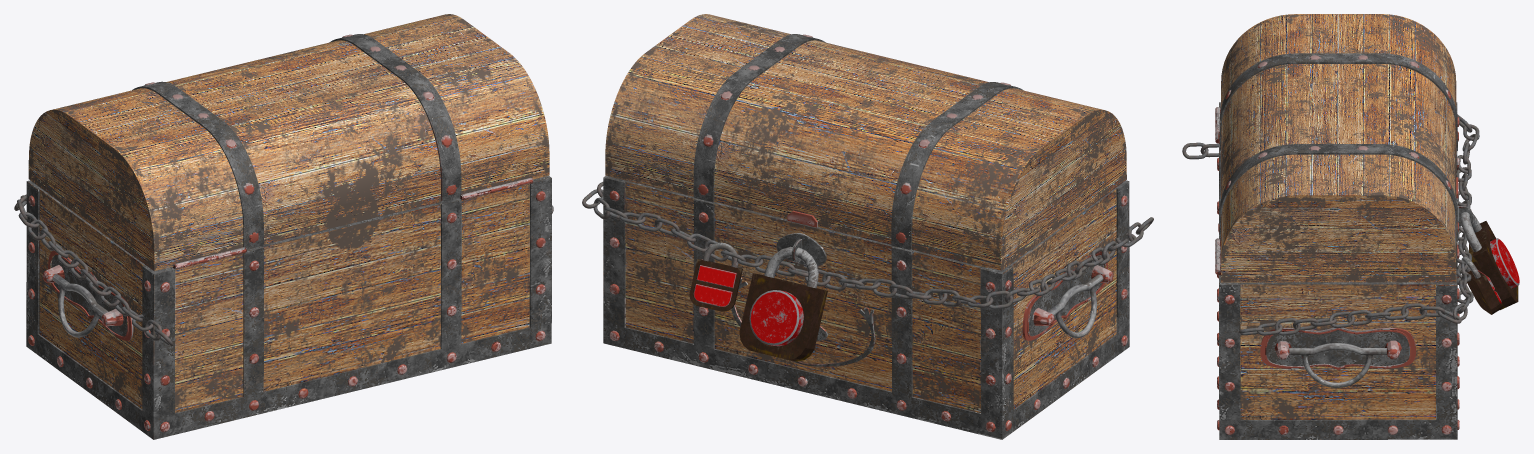
The model's file is chest.gltf.
3 renders of one model, left to right at view 1: azimuth 30°, elevation 25°; view 2: azimuth 150°, elevation 25°; view 3: azimuth 270°, elevation 25°, orthographic. The views are drawn at different scales.
Parts seen in each view (by area): view 1: down, up, chaine; view 2: up, down, chaine, lock, button, lockSecond, buttonDown, buttonUp; view 3: up, down, chaine, lock, lockSecond, button.
Part boxes in pixels (x1=…): down: x1=26, y1=175, x2=551, y2=439; up: x1=28, y1=14, x2=549, y2=271; chaine: x1=14, y1=194, x2=553, y2=346; up: x1=605, y1=14, x2=1126, y2=271; down: x1=603, y1=175, x2=1129, y2=439; chaine: x1=582, y1=182, x2=1153, y2=309; lock: x1=739, y1=246, x2=827, y2=361; button: x1=749, y1=290, x2=803, y2=346; lockSecond: x1=689, y1=242, x2=742, y2=311; buttonDown: x1=693, y1=283, x2=732, y2=306; buttonUp: x1=696, y1=265, x2=736, y2=288; up: x1=1218, y1=14, x2=1458, y2=282; down: x1=1215, y1=102, x2=1472, y2=439; chaine: x1=1182, y1=114, x2=1479, y2=335; lock: x1=1460, y1=212, x2=1518, y2=309; lockSecond: x1=1461, y1=256, x2=1501, y2=314; button: x1=1490, y1=238, x2=1519, y2=288.
Size of the model in its own units: 4.58 by 2.62 by 3.24.
8 materials, 8 textured.
